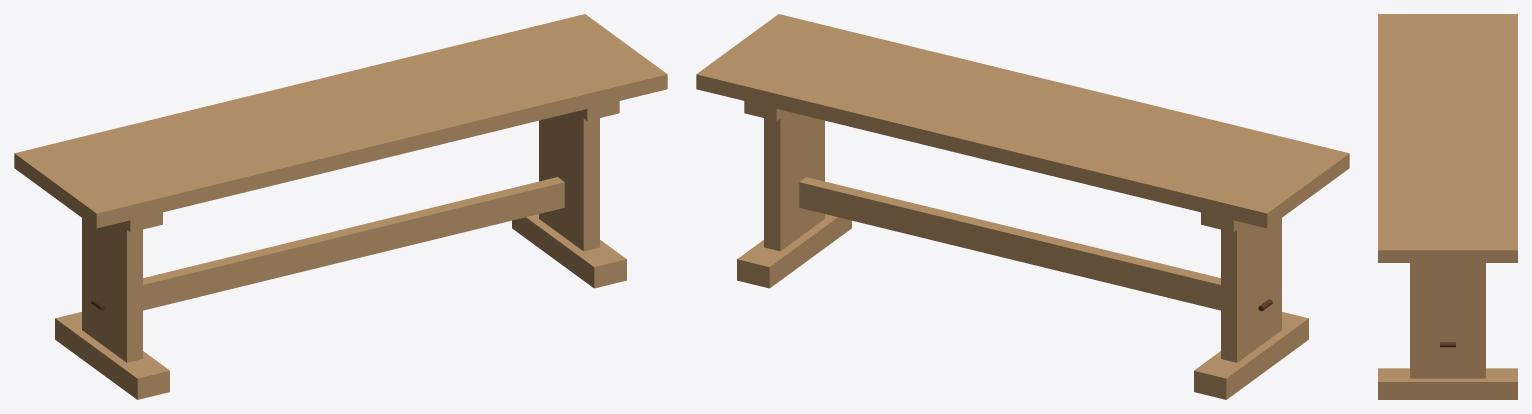
Rendered from 022_dining_bench.glb.
3 renders of one model, left to right at view 1: azimuth 30°, elevation 25°; view 2: azimuth 150°, elevation 25°; view 3: azimuth 270°, elevation 25°, orthographic. The views are drawn at different scales.
Parts seen in each view (by area): view 1: 013_seat, 010_stretcher, 001_trestle_leg, 006_trestle_leg, 000_trestle_foot, 005_trestle_foot; view 2: 013_seat, 010_stretcher, 001_trestle_leg, 006_trestle_leg, 000_trestle_foot, 005_trestle_foot; view 3: 013_seat, 006_trestle_leg, 005_trestle_foot.
Part boxes in pixels (<box>): 013_seat: <box>14,14,667,228</box>; 010_stretcher: <box>143,177,564,310</box>; 001_trestle_leg: <box>82,218,142,362</box>; 006_trestle_leg: <box>539,112,599,251</box>; 000_trestle_foot: <box>55,312,169,399</box>; 005_trestle_foot: <box>512,214,626,288</box>; 013_seat: <box>696,14,1349,228</box>; 010_stretcher: <box>799,177,1220,310</box>; 001_trestle_leg: <box>1221,218,1281,362</box>; 006_trestle_leg: <box>764,112,824,251</box>; 000_trestle_foot: <box>1194,312,1308,399</box>; 005_trestle_foot: <box>737,214,851,288</box>; 013_seat: <box>1378,14,1517,262</box>; 006_trestle_leg: <box>1410,263,1485,378</box>; 005_trestle_foot: <box>1378,368,1517,399</box>.
Size of the model in its own units: 1.4 by 0.46 by 0.35.
